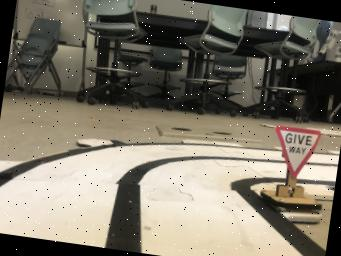give_way: (261, 125, 321, 210), (261, 125, 321, 210), (261, 125, 321, 210)
street: (0, 141, 325, 256), (0, 141, 325, 256), (0, 141, 325, 256)
